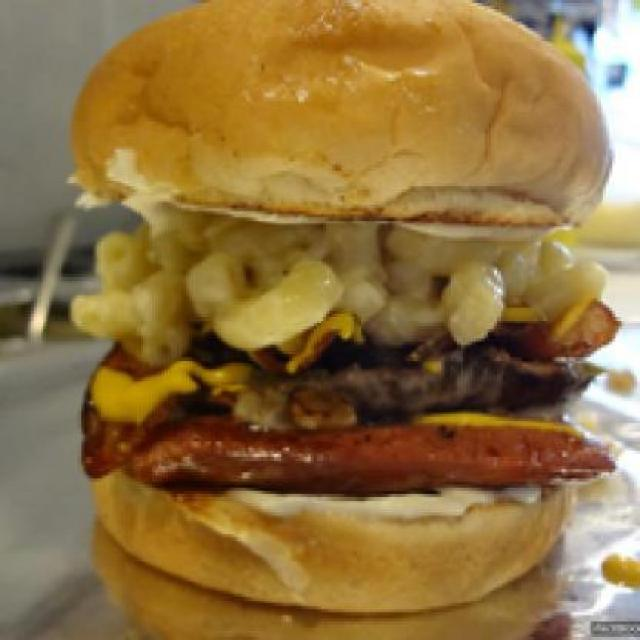hot dog: (122, 404, 606, 488)
macaroni and cheese: (81, 208, 581, 335)
